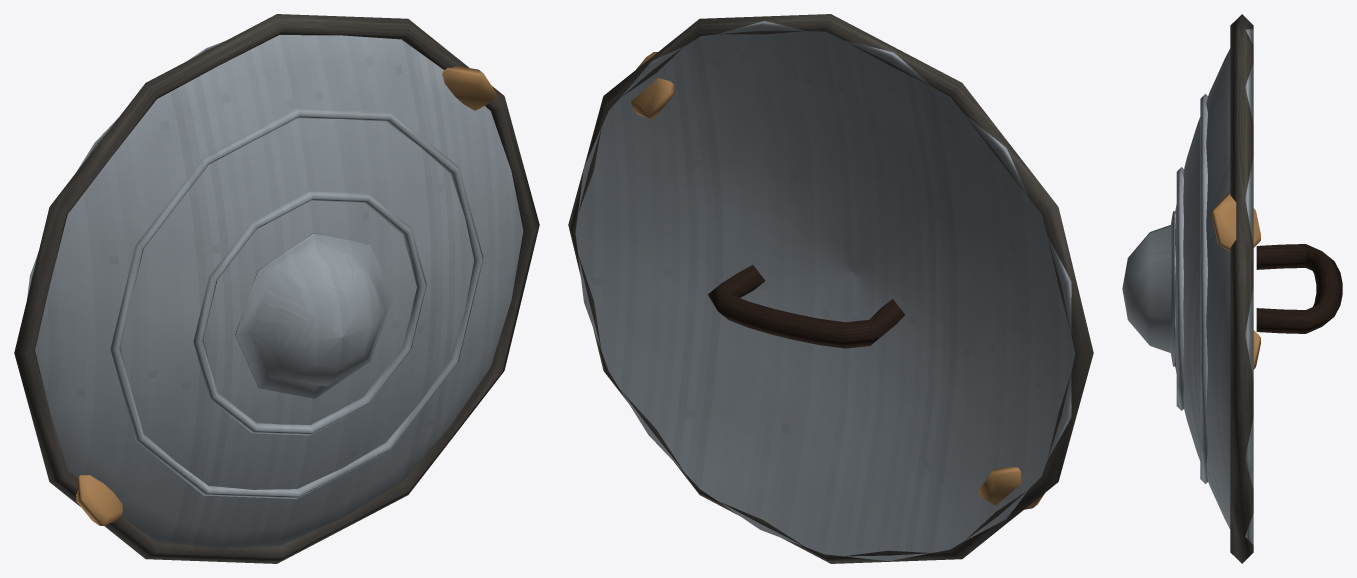
Rendered from buckler.lod2.glb.
The picture shows the model from 3 angles, left to right: view 1: azimuth 30°, elevation 25°; view 2: azimuth 150°, elevation 25°; view 3: azimuth 270°, elevation 25°; orthographic projection. The views are drawn at different scales.
Parts seen in each view (by area): view 1: steel / forged blade steel, iron / hammer-scaled wrought iron, peened pin; view 2: steel / forged blade steel, iron / hammer-scaled wrought iron, leather / oiled leather wrap, peened pin; view 3: steel / forged blade steel, iron / hammer-scaled wrought iron, leather / oiled leather wrap, peened pin.
Part boxes in pixels (<box>): steel / forged blade steel: <box>27,35,523,548</box>; iron / hammer-scaled wrought iron: <box>14,14,539,563</box>; peened pin: <box>76,66,497,525</box>; steel / forged blade steel: <box>575,20,1075,561</box>; iron / hammer-scaled wrought iron: <box>568,14,1093,563</box>; leather / oiled leather wrap: <box>708,265,904,348</box>; peened pin: <box>631,52,1044,509</box>; steel / forged blade steel: <box>1122,29,1253,544</box>; iron / hammer-scaled wrought iron: <box>1230,14,1253,563</box>; leather / oiled leather wrap: <box>1256,244,1342,333</box>; peened pin: <box>1211,193,1260,369</box>.
Bounding box in the file's own units: 0.376 × 0.376 × 0.15.
Materials: 4 (3 with a texture image).
